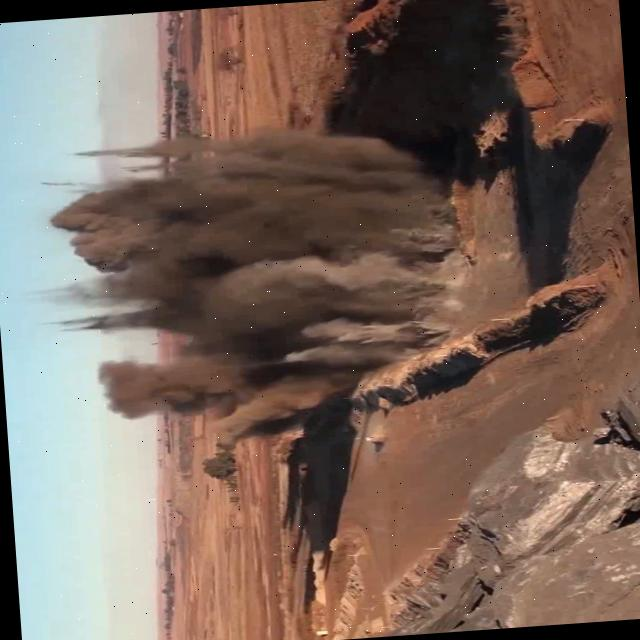explosion: (20, 90, 542, 498)
